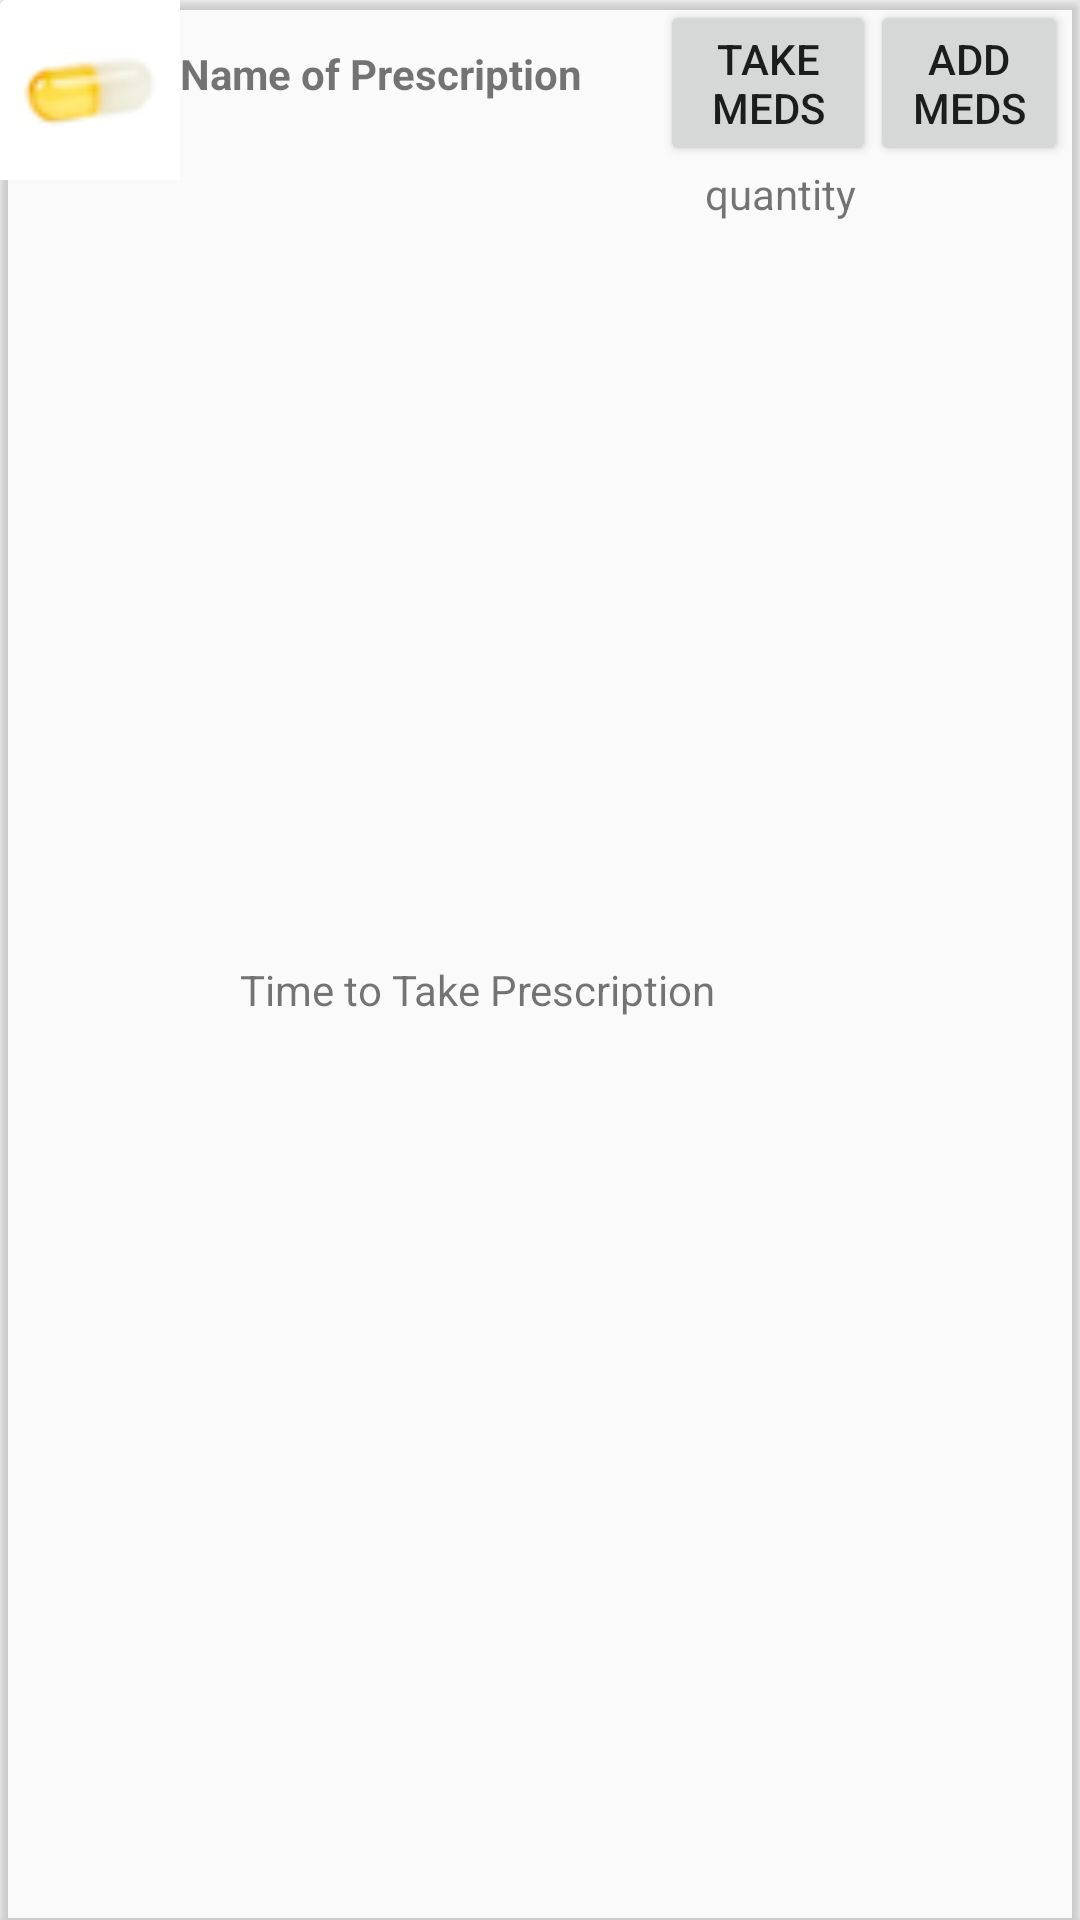

Locate icon controls on the screen. Image size 1080x1920, boxes as BBox(x1, y1, x2, y2).
resized pill: BBox(0, 0, 150, 123)
